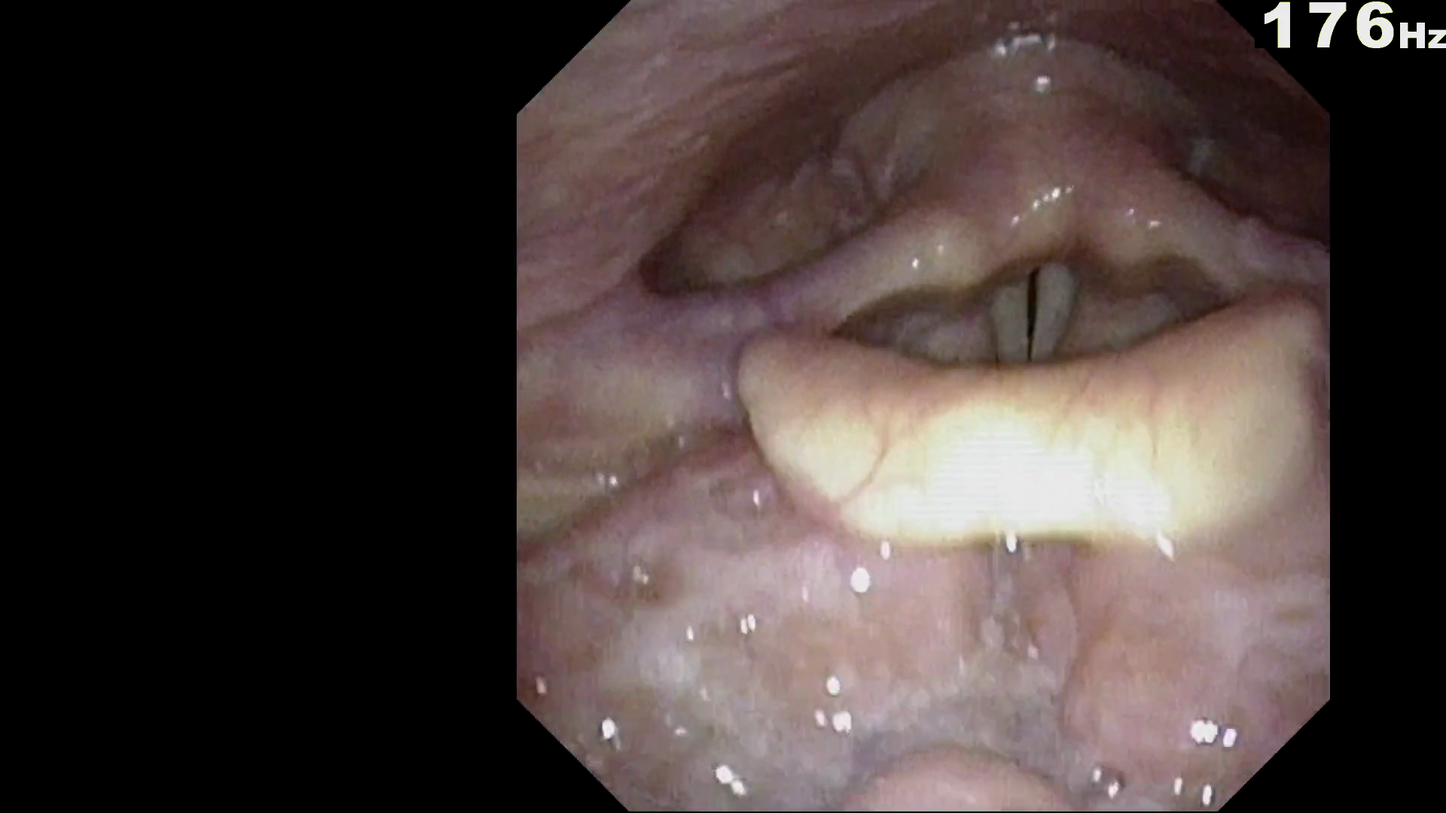epiglottis: (730, 254, 1320, 536)
trachea: (966, 224, 1113, 379)
